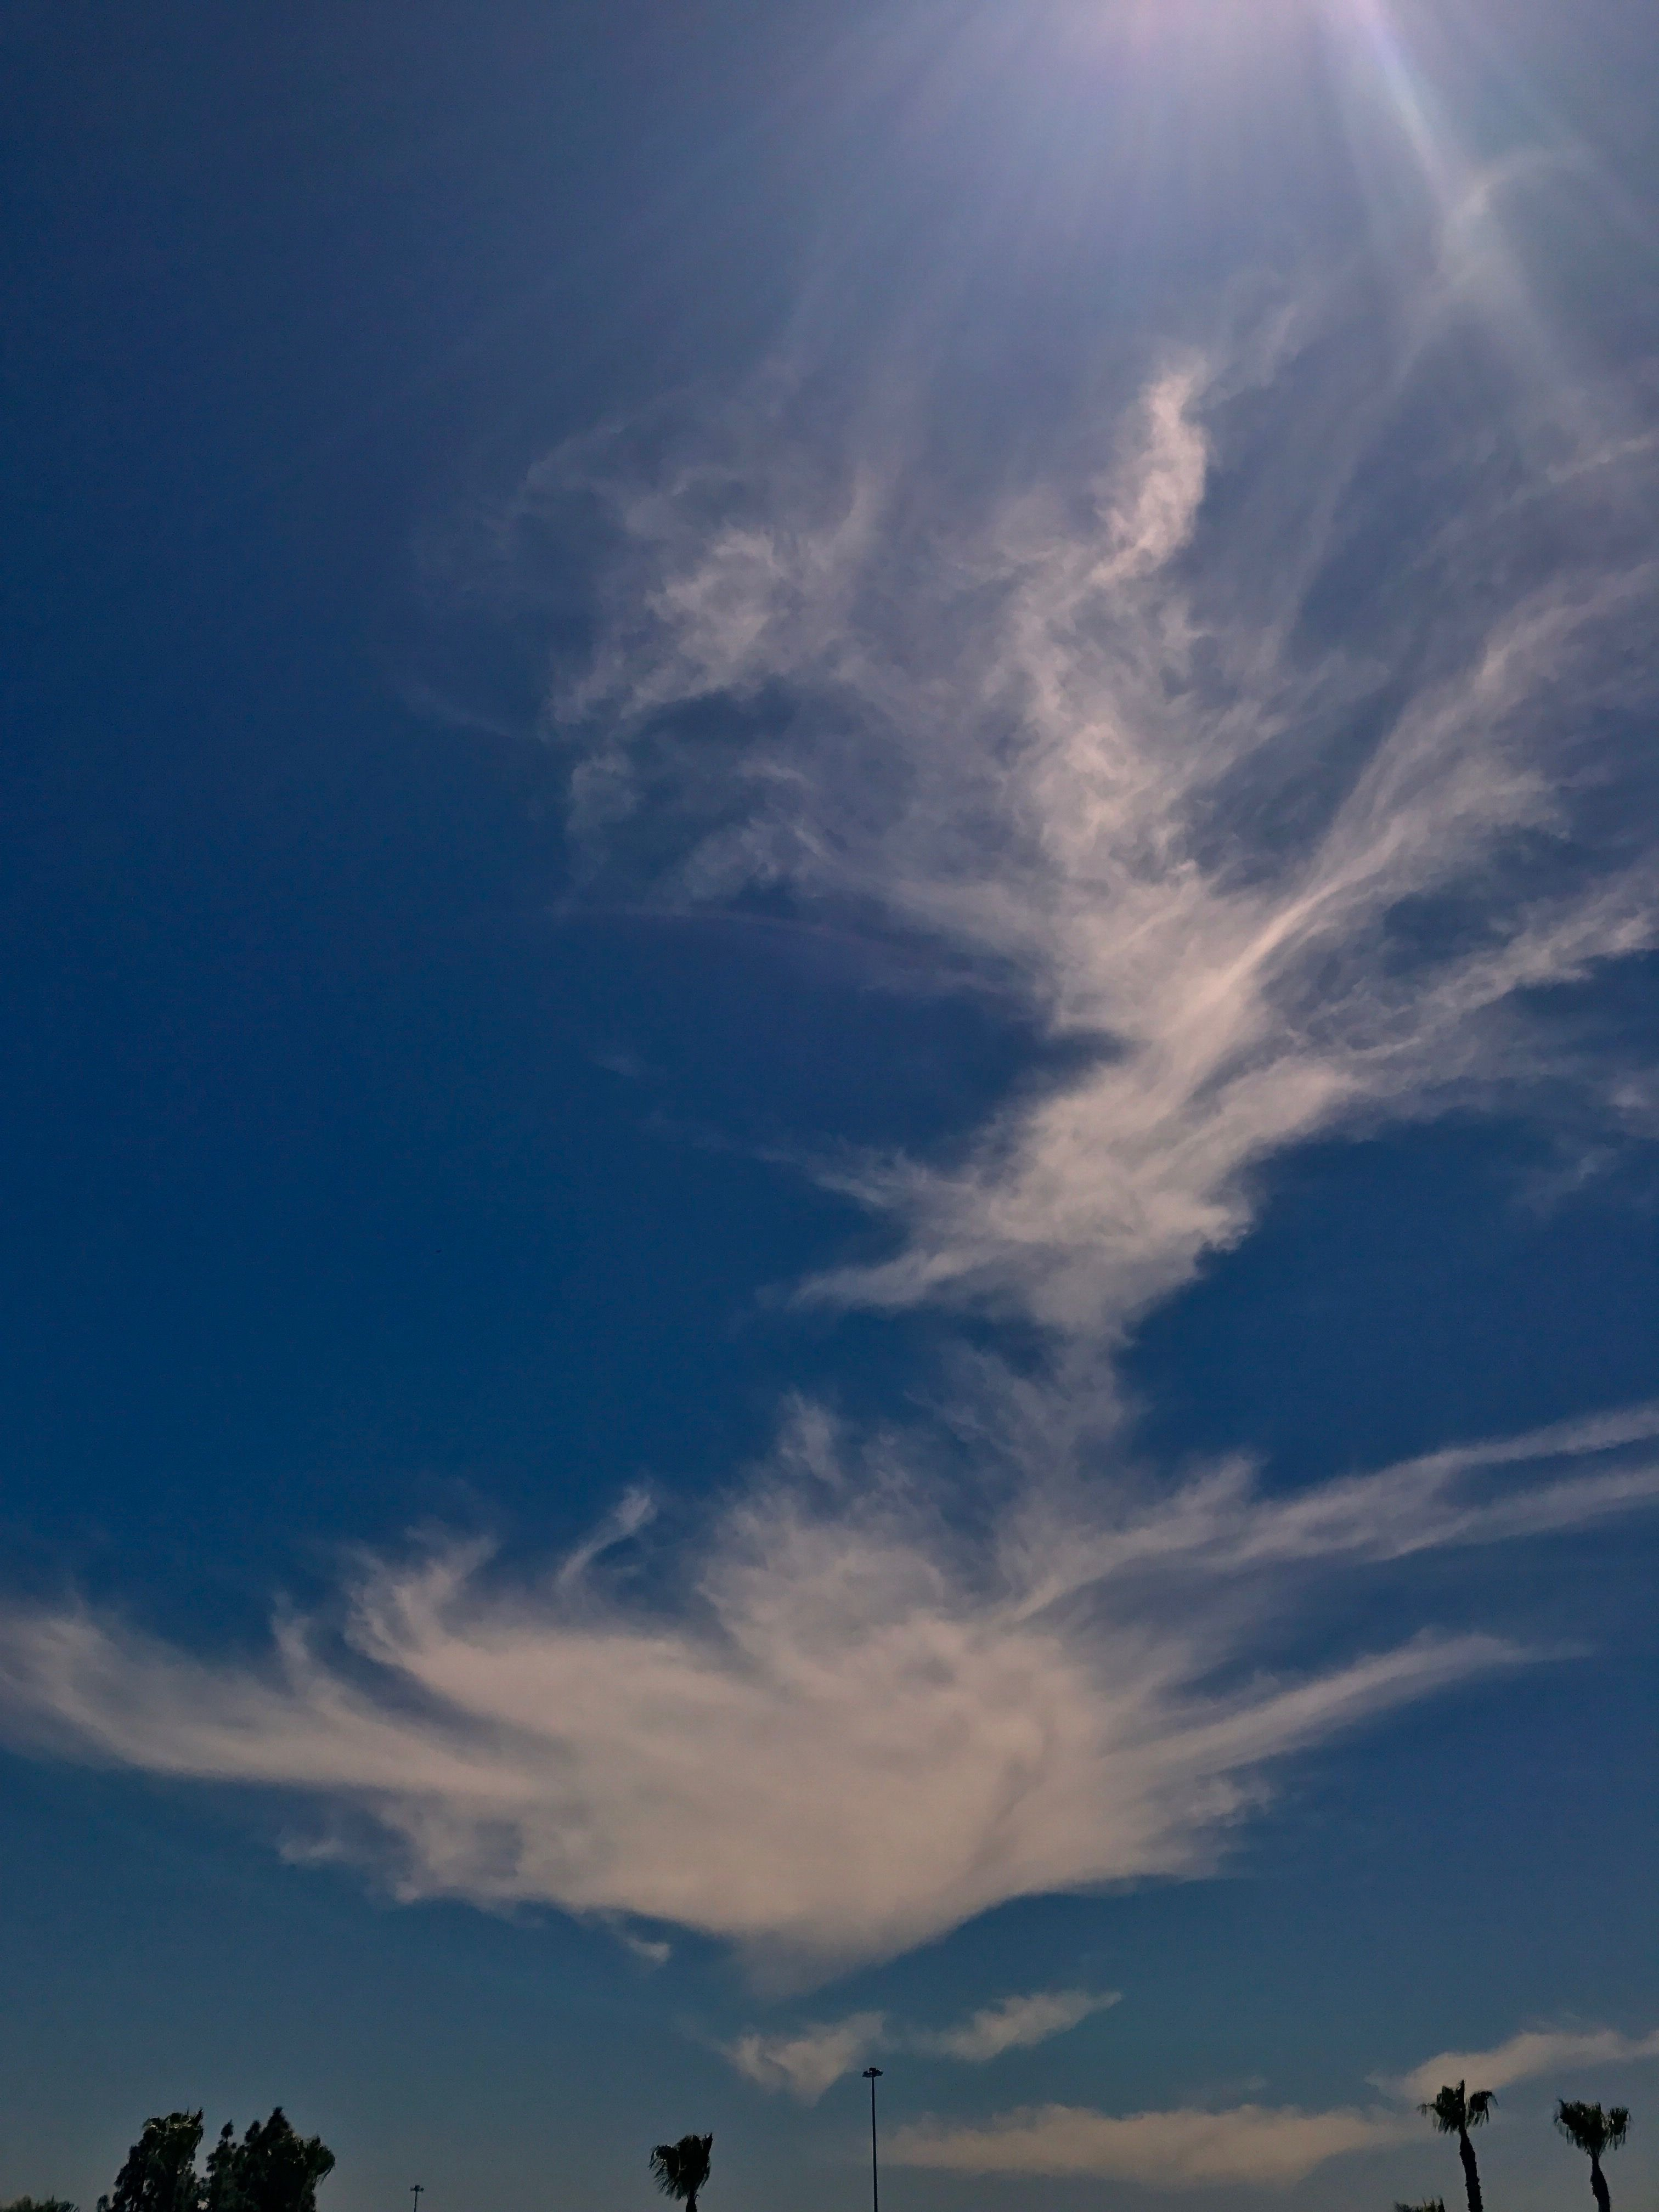Cirrus: (410, 160, 1636, 1372), (54, 1353, 1659, 2033)
